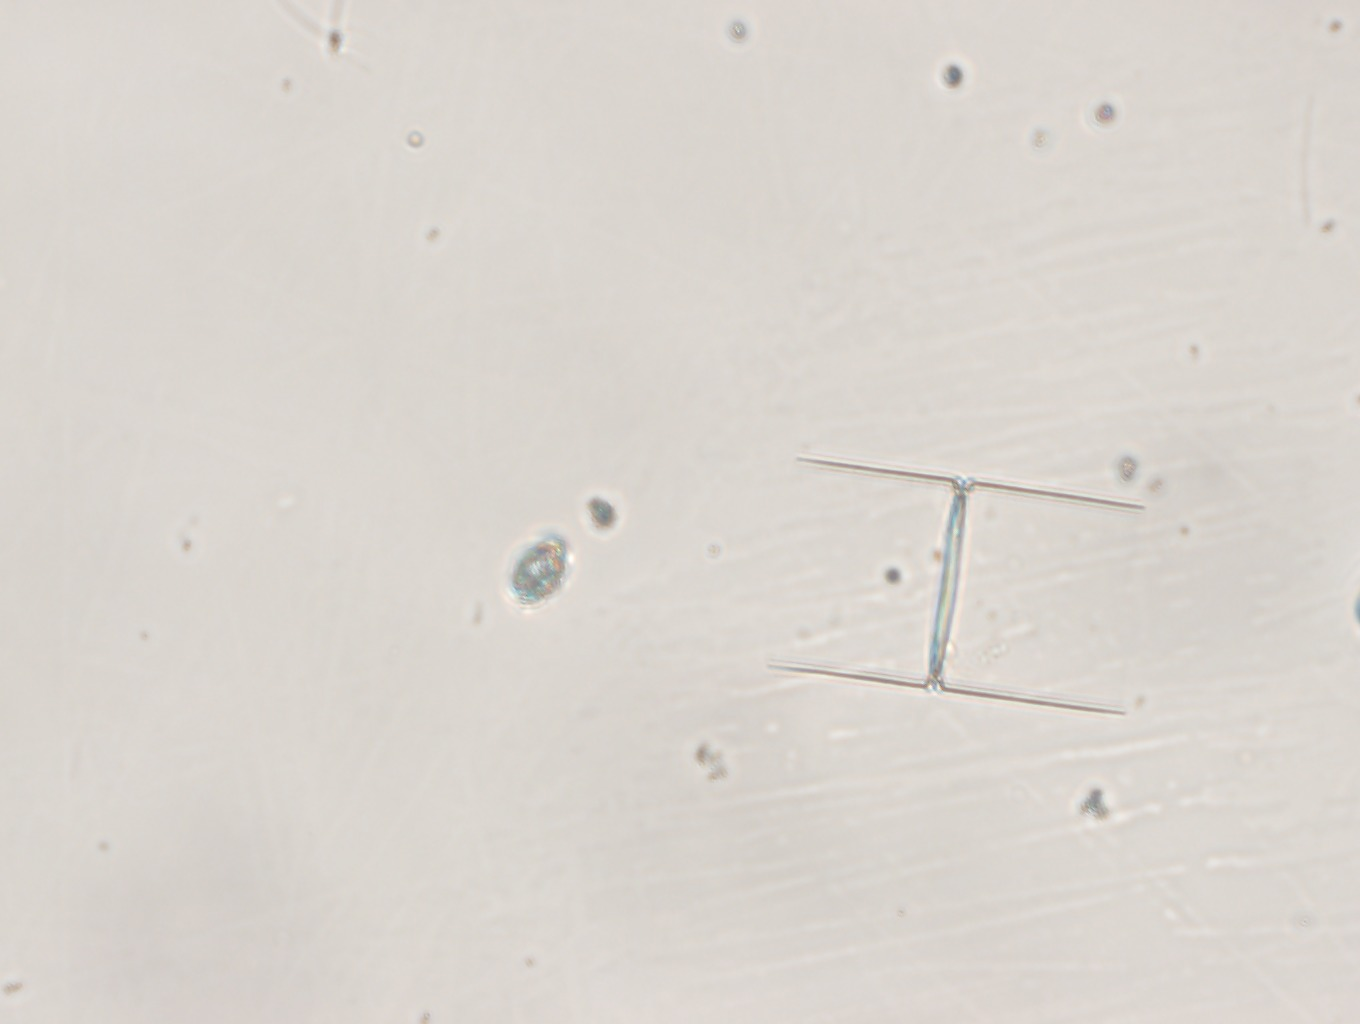guinardia flaccida: (751, 451, 1155, 726)
